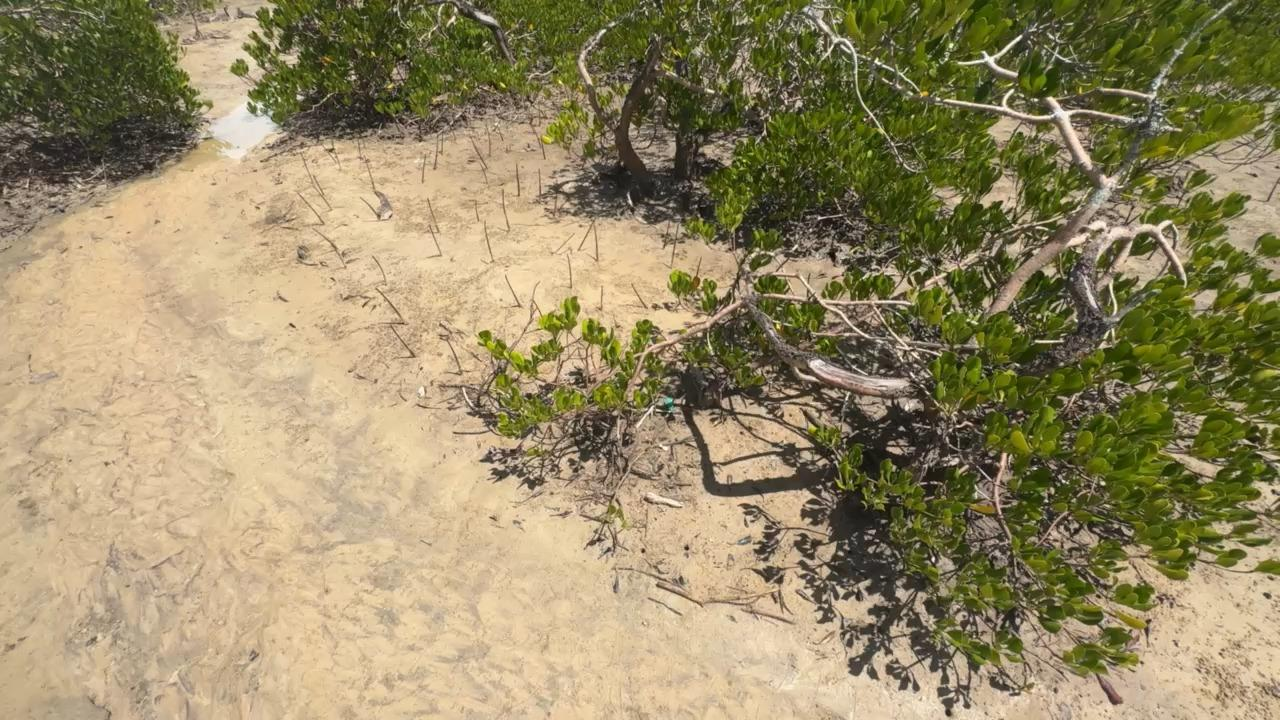Tree: (375, 287, 406, 324), (296, 191, 326, 225), (390, 324, 416, 358), (447, 338, 463, 375), (312, 228, 338, 249), (328, 240, 347, 268), (505, 274, 521, 307), (470, 137, 487, 168), (313, 185, 333, 211), (484, 219, 495, 262), (427, 197, 440, 232), (631, 283, 648, 309), (429, 225, 443, 256), (501, 189, 511, 232), (372, 256, 387, 284), (300, 153, 314, 183), (669, 222, 678, 266), (364, 154, 375, 189), (360, 196, 378, 217), (313, 175, 324, 195), (479, 162, 488, 184), (594, 225, 599, 262), (331, 140, 339, 163), (664, 220, 671, 246), (421, 154, 427, 184), (434, 133, 439, 168), (567, 254, 572, 288), (541, 133, 546, 160), (516, 164, 520, 196), (474, 199, 479, 221), (538, 168, 541, 204), (601, 285, 603, 311), (358, 142, 361, 159)
